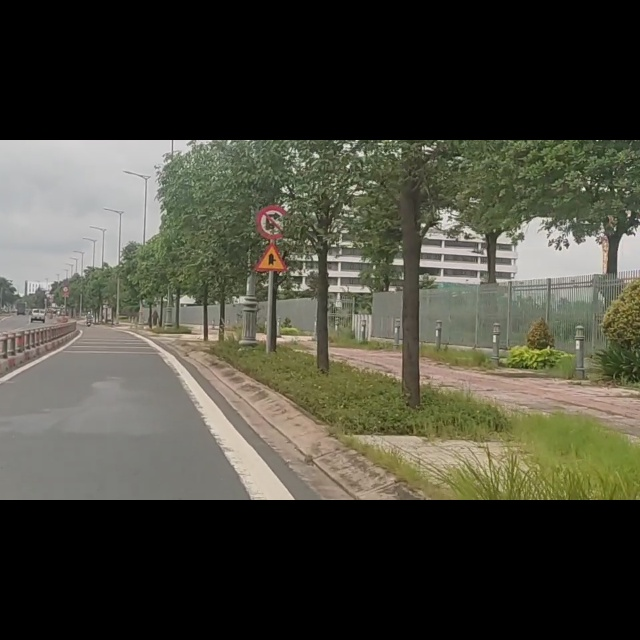bien_cam: (254, 113, 291, 179), (254, 185, 290, 235)
